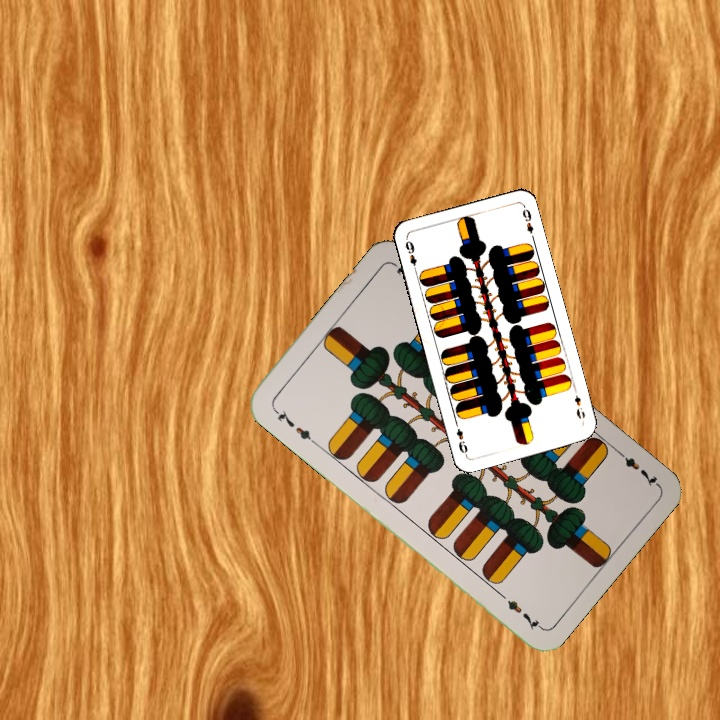E7: (612, 445, 661, 490), (269, 404, 318, 447)
E9: (401, 237, 420, 275), (570, 391, 588, 421)
